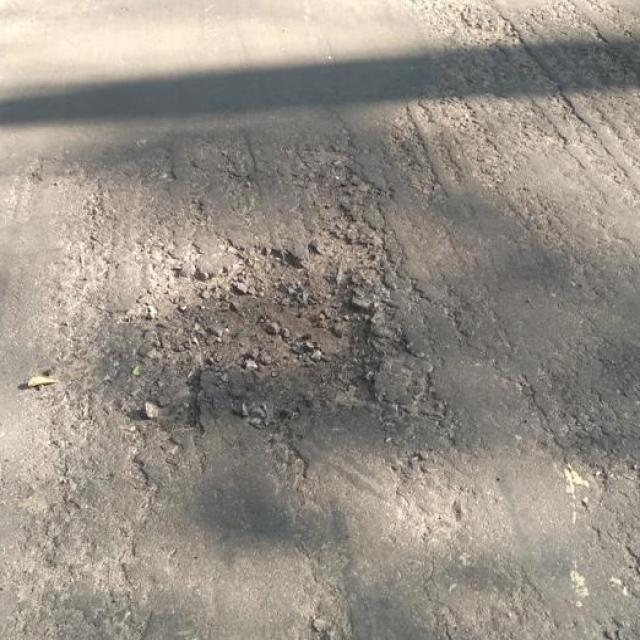road-pothole: (128, 165, 414, 450)
